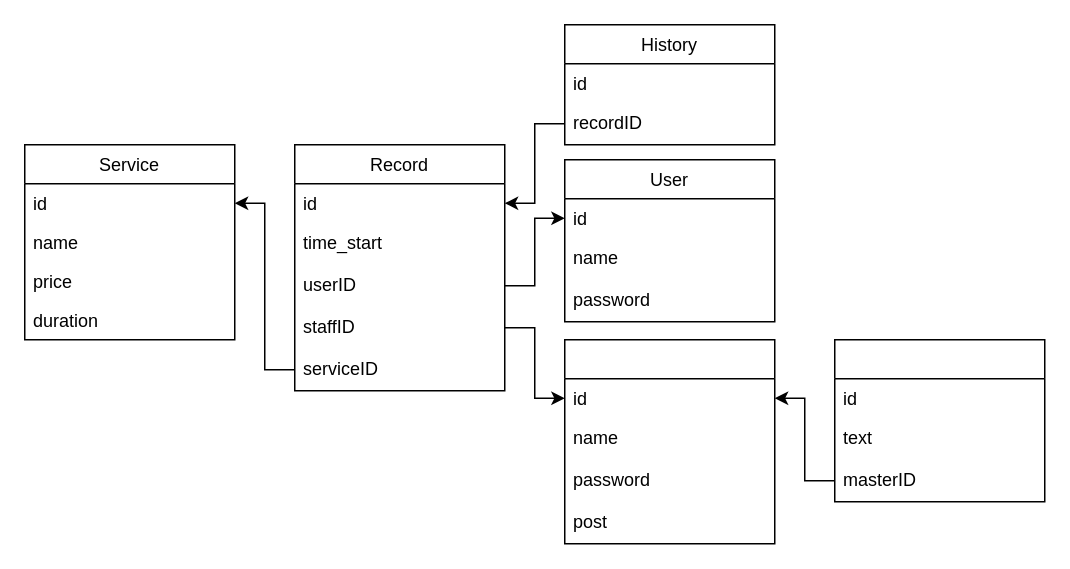
The diagram is 1070 pixels wide and 569 high, and some of its shapes have lost their labels. Each missing label, with the box of its shape:
Review: (833, 338, 1045, 502)
Staff: (563, 338, 775, 544)
